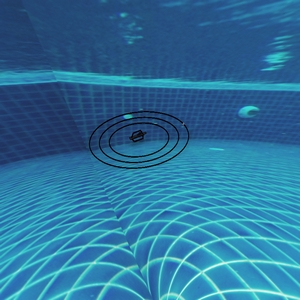circle: (86, 103, 193, 172)
submarine: (132, 129, 144, 142)
